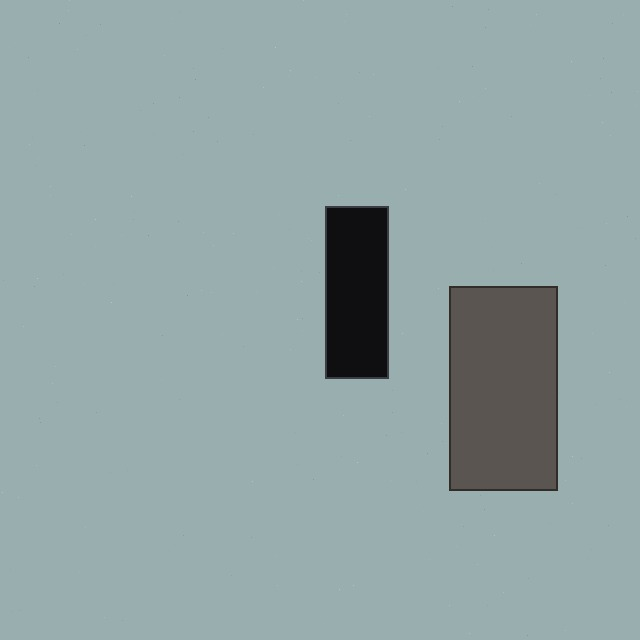concrete_damage: (449, 286, 557, 490)
phone: (325, 206, 452, 378)
